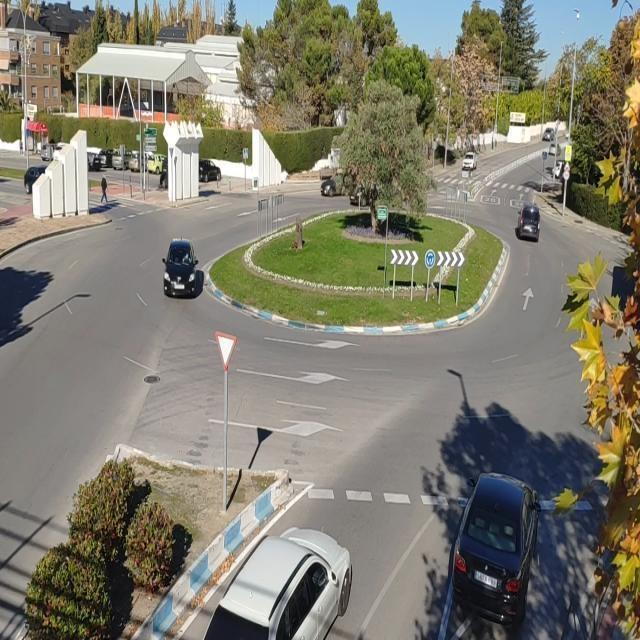Car: (201, 525, 352, 640), (450, 472, 542, 625), (162, 239, 200, 298), (199, 160, 221, 182), (462, 152, 477, 170), (543, 128, 554, 142)
Van: (517, 202, 540, 242)
